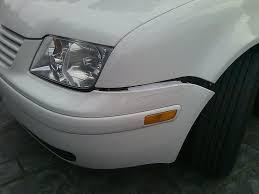Headlight-Damage: (20, 20, 123, 103)
